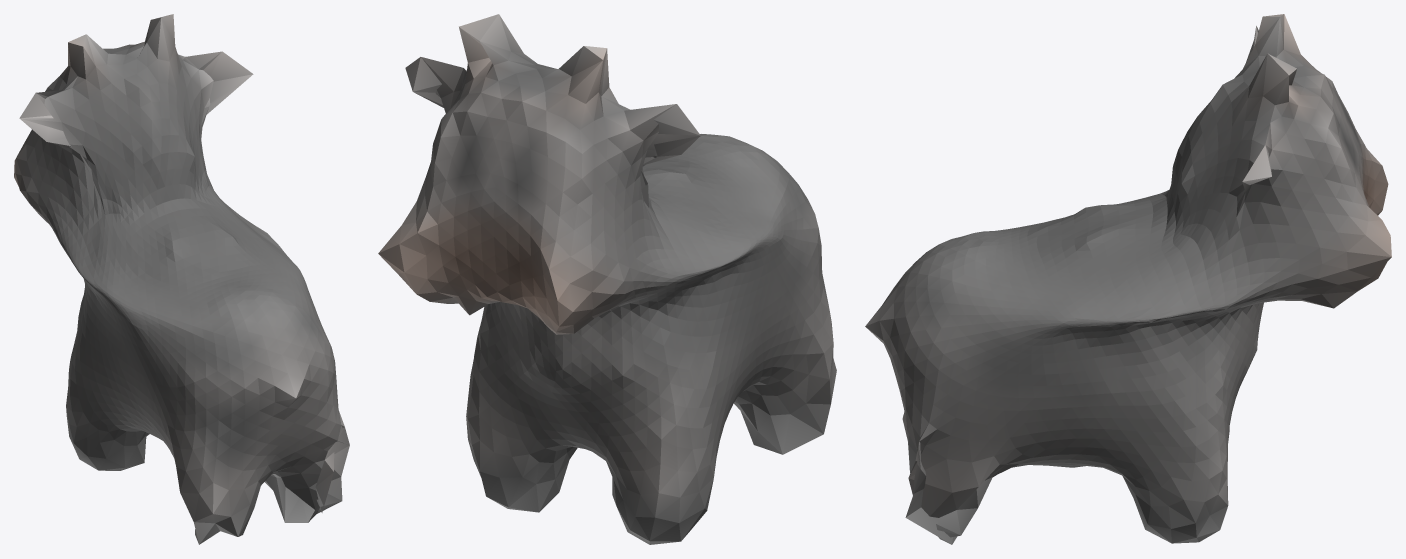
File: colored_mesh_iter_0500.obj
3 views of the same model, side by side, from view 1: azimuth 30°, elevation 25°; view 2: azimuth 150°, elevation 25°; view 3: azimuth 270°, elevation 25° (orthographic). The views are drawn at different scales.
Bounding box in the file's own units: 1.17 × 1.99 × 1.97.
